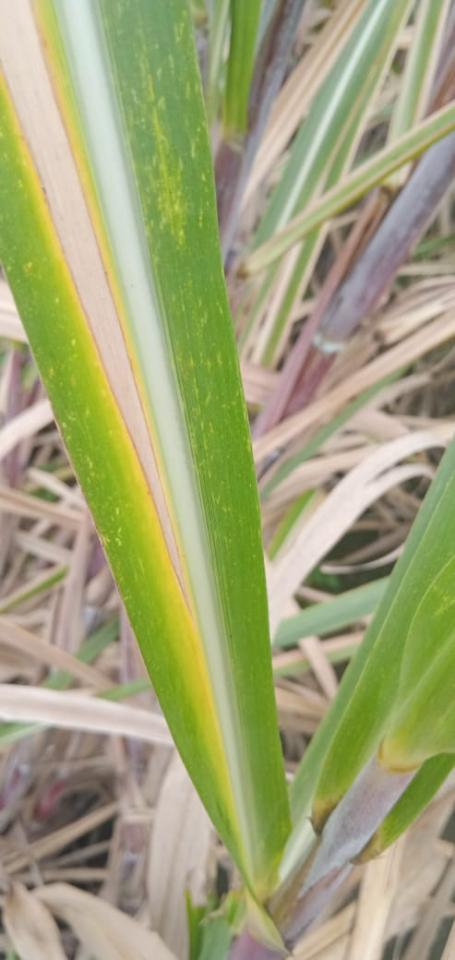Yellow: (0, 0, 237, 820)
